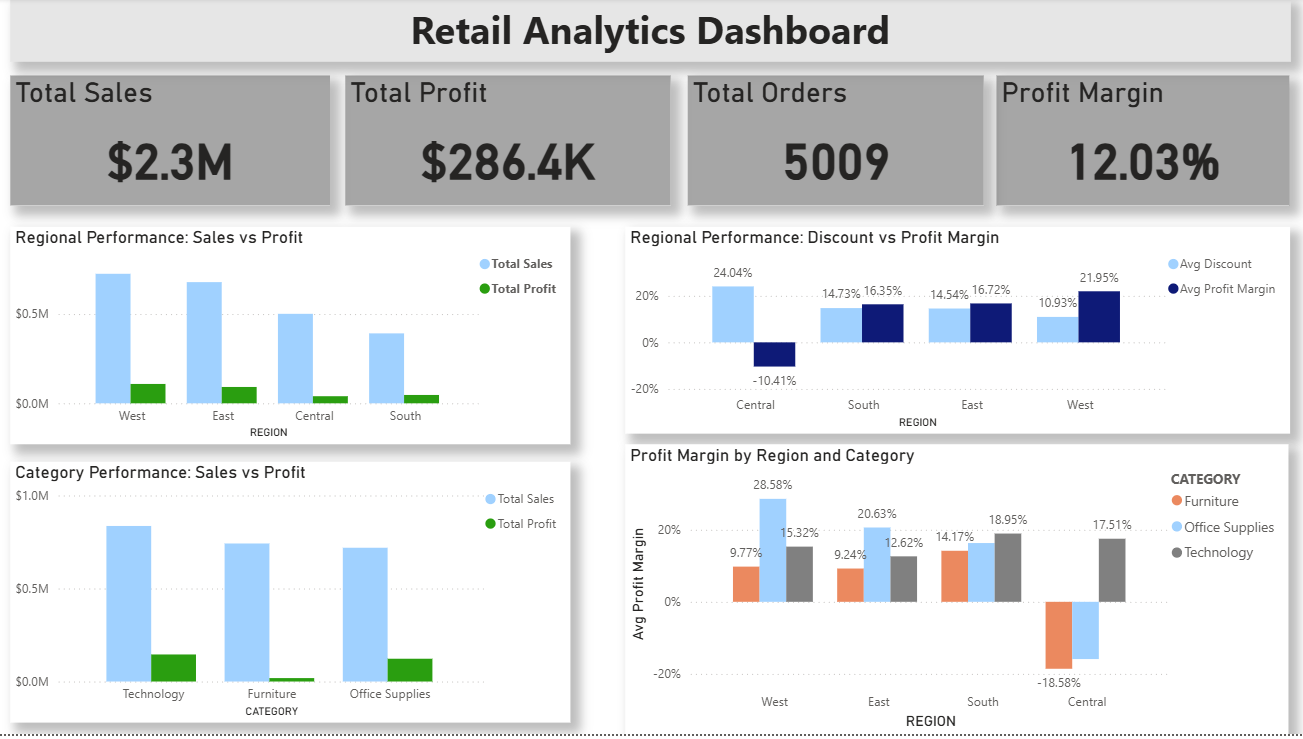

The dashboard page shown, as its layout file describes it:
{"tool":"powerbi","page":{"name":"Page 1","canvas":[1280,720],"ordinal":0},"visuals":[{"type":"card","title":"Total Sales","fields":{"Values":["SUPERSTORE_CLEAN.Total sales"]},"box":[10.6,75.3,313.1,126.8],"z":0},{"type":"card","title":"Total Profit","fields":{"Values":["SUPERSTORE_CLEAN.Total profit"]},"box":[338.2,75.3,318.4,126.8],"z":1000},{"type":"card","title":"Profit Margin","fields":{"Values":["SUPERSTORE_CLEAN.Avg profit margin"]},"box":[976.4,75.3,286.7,126.8],"z":2000},{"type":"card","title":"Total Orders","fields":{"Values":["SUPERSTORE_CLEAN.Total orders"]},"box":[673.8,75.3,289.3,126.8],"z":3000},{"type":"clusteredColumnChart","title":"Regional Performance: Sales vs Profit","fields":{"Category":["SUPERSTORE_CLEAN.REGION"],"Y":["SUPERSTORE_CLEAN.Total sales","SUPERSTORE_CLEAN.Total profit"]},"box":[10.6,223.3,548.3,212.7],"z":4000},{"type":"clusteredColumnChart","title":"Regional Performance: Discount vs Profit Margin","fields":{"Category":["SUPERSTORE_CLEAN.REGION"],"Y":["SUPERSTORE_CLEAN.Avg Discount","SUPERSTORE_CLEAN.Avg Profit Margin"]},"box":[613,223.3,650,202.1],"z":5000},{"type":"clusteredColumnChart","title":"Category Performance: Sales vs Profit","fields":{"Category":["SUPERSTORE_CLEAN.CATEGORY"],"Y":["SUPERSTORE_CLEAN.Total Sales","SUPERSTORE_CLEAN.Total Profit"]},"box":[10.6,453.2,548.3,255],"z":6000},{"type":"clusteredColumnChart","title":"Profit Margin by Region and Category","fields":{"Category":["SUPERSTORE_CLEAN.REGION"],"Y":["SUPERSTORE_CLEAN.Avg Profit Margin"],"Series":["SUPERSTORE_CLEAN.CATEGORY"]},"box":[613,436,648.7,284.1],"z":7000},{"type":"textbox","box":[10.6,0,1252.5,62.1],"z":8000}]}

Visuals, with their boxes in screenshot pixels (x1, y1, x2, y2), scaled from the page's 1280x720 canvas onto the 1303x739 screenshot:
"Total Sales" card: region(11, 77, 330, 207)
"Total Profit" card: region(344, 77, 668, 207)
"Profit Margin" card: region(994, 77, 1286, 207)
"Total Orders" card: region(686, 77, 980, 207)
"Regional Performance: Sales vs Profit" clusteredColumnChart: region(11, 229, 569, 448)
"Regional Performance: Discount vs Profit Margin" clusteredColumnChart: region(624, 229, 1286, 437)
"Category Performance: Sales vs Profit" clusteredColumnChart: region(11, 465, 569, 727)
"Profit Margin by Region and Category" clusteredColumnChart: region(624, 448, 1284, 738)
textbox: region(11, 0, 1286, 64)
